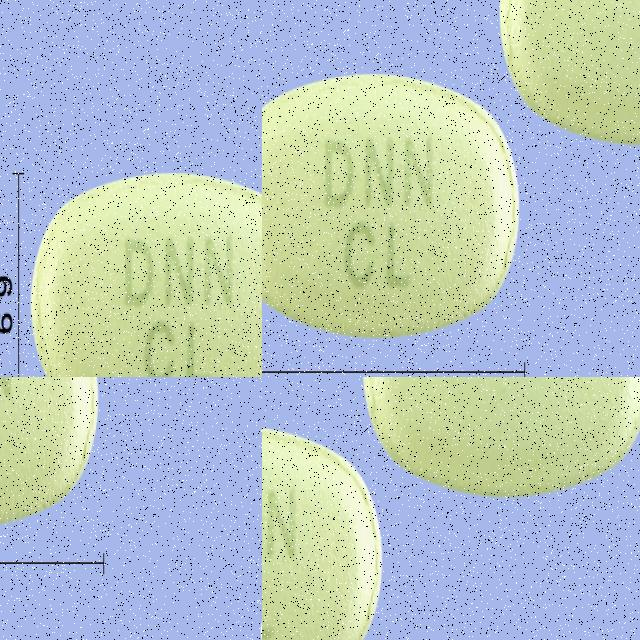Baraclude: (365, 149, 542, 377)
Besivo: (91, 377, 262, 534)
Claxin - 500mg: (83, 266, 262, 377)
Clcid: (363, 377, 640, 492), (262, 419, 384, 640)
